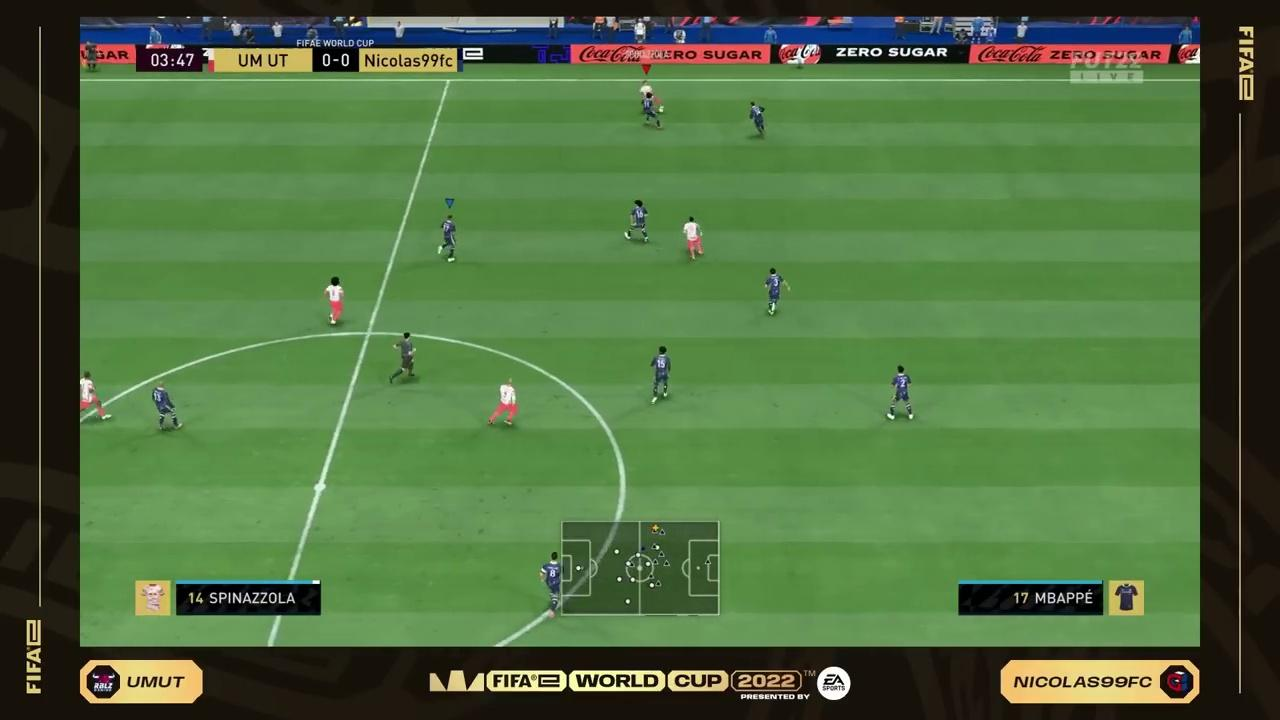scoreboard: (212, 48, 466, 72)
timestamp: (134, 48, 205, 72)
